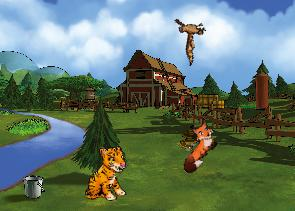eagle: (162, 7, 218, 66)
fox: (166, 114, 226, 176)
tiger: (79, 145, 131, 204)
